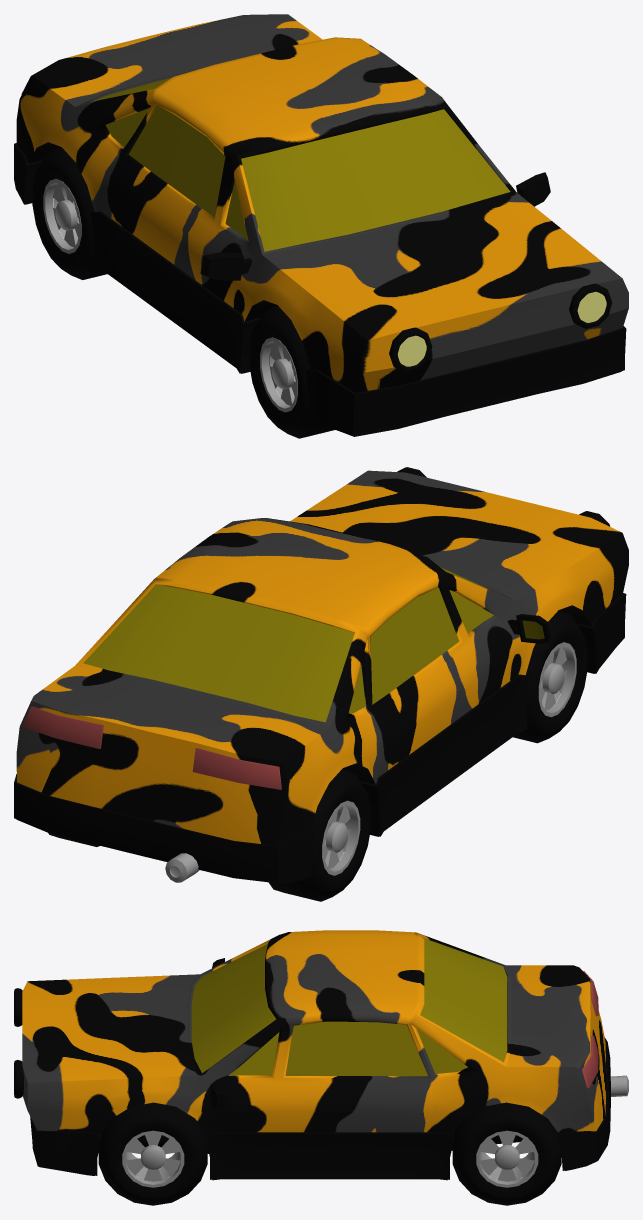
File: Muscle Evolution1 Black ArmyBlackOrange DarkYellow LightGrey.glb
The picture shows the model from 3 angles, top to bottom: view 1: azimuth 30°, elevation 25°; view 2: azimuth 150°, elevation 25°; view 3: azimuth 270°, elevation 25°; orthographic projection. The views are drawn at different scales.
Parts seen in each view (by area): view 1: evo1_body4_f1_dupl, evo1_sill0_f1_dupl, evo1_frontGlass_f1_dupl, evo1_glasseBigR_f1_dupl, evo1_tire_rf_f1_dupl, evo1_tire_rf1_f1_dupl, evo1_rim_A_rb_f1_dupl, evo1_rim_A_rf_f1_dupl, evo1_mirorR3_f1_dupl, evo1_blockLightR_f1_dupl, evo1_blockLightL_f1_dupl, evo1_mirorL3_f1_dupl (+4 smaller); view 2: evo1_body4_f1_dupl, evo1_sill0_f1_dupl, evo1_BackGlassGlass_f1_dupl, evo1_glasseBigR_f1_dupl, evo1_tire_rf_f1_dupl, evo1_tire_rf1_f1_dupl, evo1_rim_A_rf_f1_dupl, evo1_rim_A_rb_f1_dupl, evo1_redlightR2_f1_dupl, evo1_redlightL2_f1_dupl, evo1_glassfR_f1_dupl, evo1_pipe1_f1_dupl (+1 smaller); view 3: evo1_body4_f1_dupl, evo1_sill0_f1_dupl, evo1_BackGlassGlass_f1_dupl, evo1_glasseBigL_f1_dupl, evo1_frontGlass_f1_dupl, evo1_tire_lb_f1_dupl, evo1_tire_lf_f1_dupl, evo1_rim_A_lf_f1_dupl, evo1_rim_A_lb_f1_dupl, evo1_glassfL_f1_dupl, evo1_glassbL_f1_dupl, evo1_GroundBody_f1_dupl (+1 smaller).
Part boxes in pixels (<box>): evo1_body4_f1_dupl: <box>16,14,628,392</box>; evo1_sill0_f1_dupl: <box>14,143,626,436</box>; evo1_frontGlass_f1_dupl: <box>241,109,510,251</box>; evo1_glasseBigR_f1_dupl: <box>128,105,225,217</box>; evo1_tire_rf_f1_dupl: <box>32,147,107,279</box>; evo1_tire_rf1_f1_dupl: <box>249,306,334,438</box>; evo1_rim_A_rb_f1_dupl: <box>43,179,81,253</box>; evo1_rim_A_rf_f1_dupl: <box>260,337,297,412</box>; evo1_mirorR3_f1_dupl: <box>200,252,252,280</box>; evo1_blockLightR_f1_dupl: <box>389,327,432,372</box>; evo1_blockLightL_f1_dupl: <box>569,283,612,328</box>; evo1_mirorL3_f1_dupl: <box>516,172,550,206</box>; evo1_body4_f1_dupl: <box>16,470,628,845</box>; evo1_sill0_f1_dupl: <box>14,593,626,882</box>; evo1_BackGlassGlass_f1_dupl: <box>83,584,354,722</box>; evo1_glasseBigR_f1_dupl: <box>370,587,458,704</box>; evo1_tire_rf_f1_dupl: <box>268,769,371,901</box>; evo1_tire_rf1_f1_dupl: <box>513,610,587,743</box>; evo1_rim_A_rf_f1_dupl: <box>538,642,576,717</box>; evo1_rim_A_rb_f1_dupl: <box>322,800,360,875</box>; evo1_redlightR2_f1_dupl: <box>192,748,281,789</box>; evo1_redlightL2_f1_dupl: <box>22,706,103,748</box>; evo1_glassfR_f1_dupl: <box>449,590,493,632</box>; evo1_pipe1_f1_dupl: <box>165,853,199,882</box>; evo1_body4_f1_dupl: <box>22,930,606,1152</box>; evo1_sill0_f1_dupl: <box>30,1037,610,1179</box>; evo1_BackGlassGlass_f1_dupl: <box>420,937,507,1061</box>; evo1_glasseBigL_f1_dupl: <box>285,1021,427,1076</box>; evo1_frontGlass_f1_dupl: <box>191,944,276,1073</box>; evo1_tire_lb_f1_dupl: <box>452,1102,561,1205</box>; evo1_tire_lf_f1_dupl: <box>98,1102,207,1205</box>; evo1_rim_A_lf_f1_dupl: <box>122,1130,184,1187</box>; evo1_rim_A_lb_f1_dupl: <box>476,1130,538,1187</box>; evo1_glassfL_f1_dupl: <box>228,1032,279,1075</box>; evo1_glassbL_f1_dupl: <box>416,1028,467,1073</box>; evo1_GroundBody_f1_dupl: <box>40,1140,594,1180</box>.
Size of the model in its own units: 177 by 112 by 331.
Materials: 7 (1 with a texture image).
